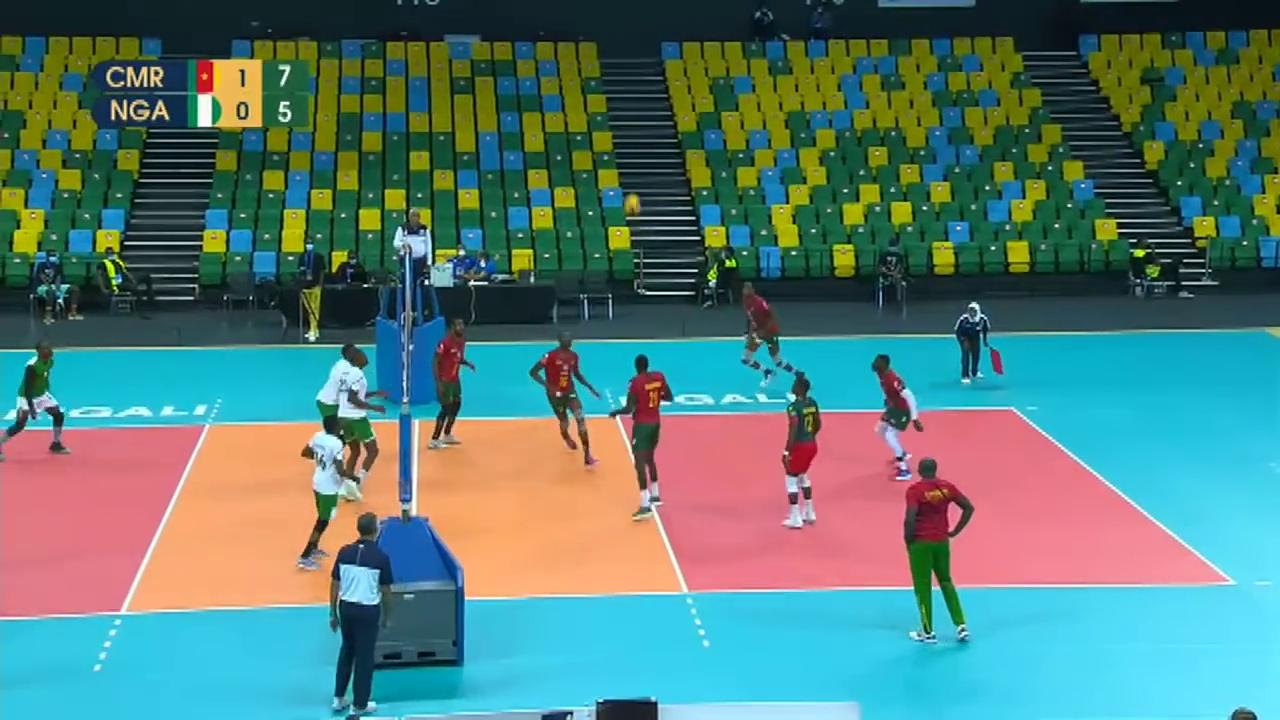player: (531, 334, 604, 464), (616, 352, 669, 518), (1, 345, 72, 455), (299, 416, 348, 574), (779, 375, 823, 527), (338, 347, 381, 502), (744, 279, 802, 390), (873, 357, 924, 478), (430, 319, 476, 447), (315, 335, 359, 441)
refree: (314, 510, 395, 720), (386, 204, 437, 311), (956, 300, 997, 383)
